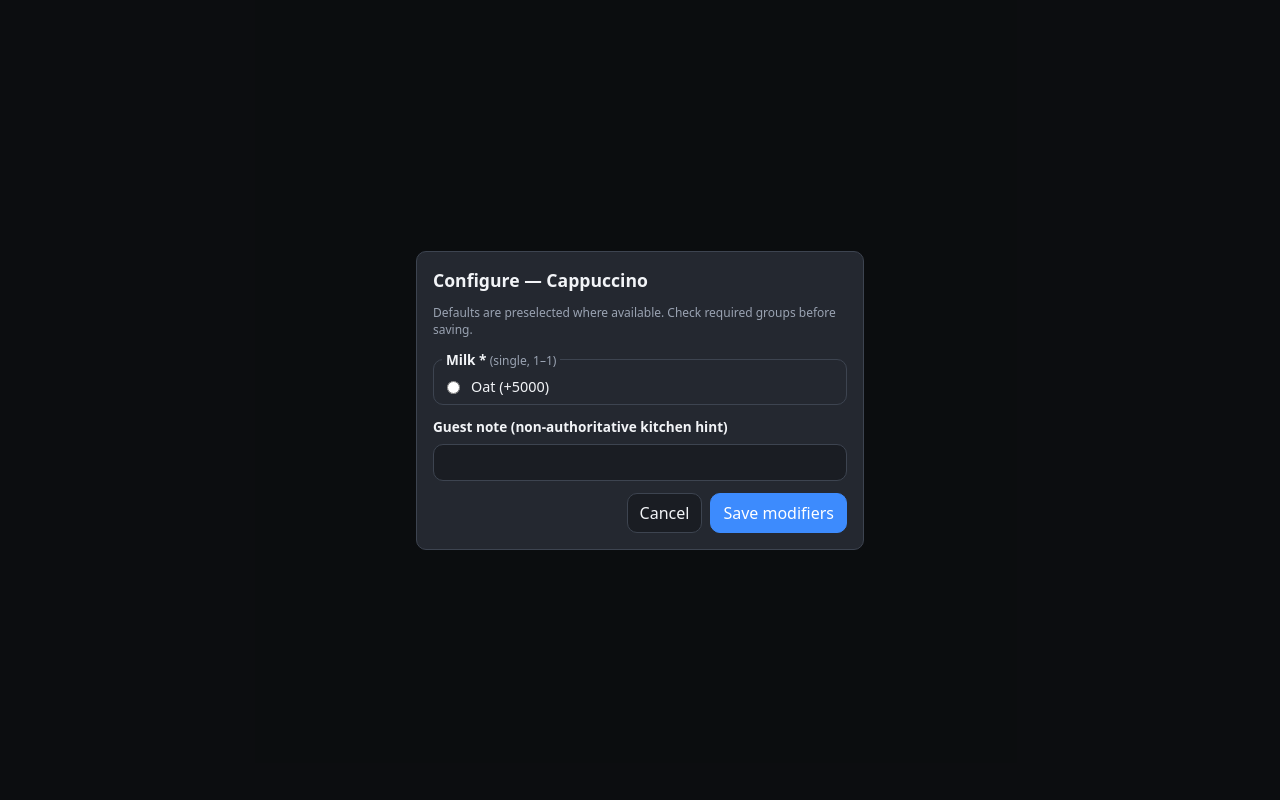
Test: ModifierConfigurationModal › rejects a required group without an available default
This screenshot has width=1280, height=800.
Click the button "Save modifiers".
click(779, 512)  # box [710,492,847,532]
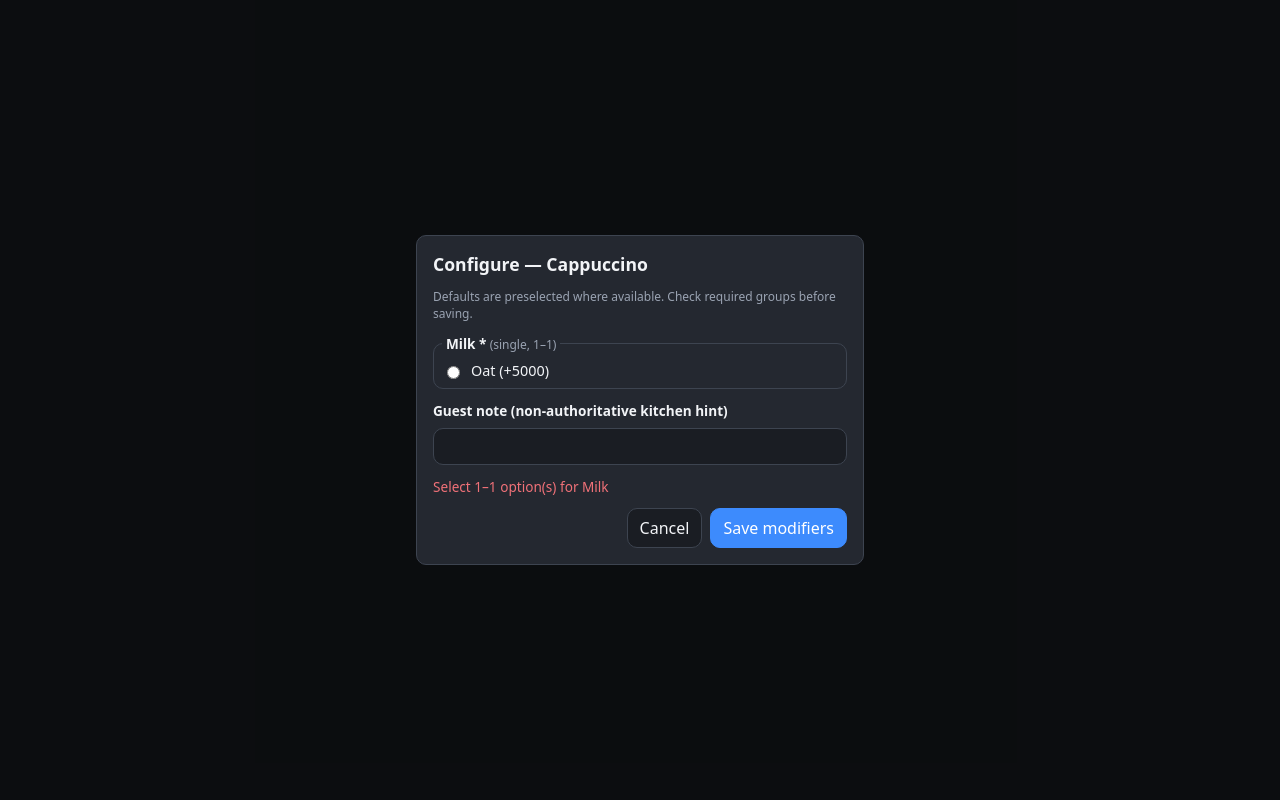
Now the message "Select 1–1 option(s) for Milk" is shown, box [433,477,609,496]
